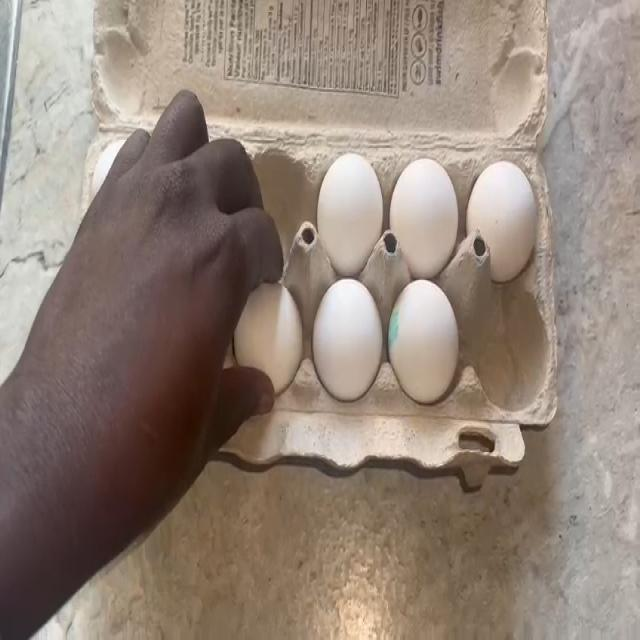Egg: (394, 284, 458, 392), (318, 154, 382, 256), (395, 151, 453, 253), (318, 290, 381, 378), (244, 290, 298, 374)
